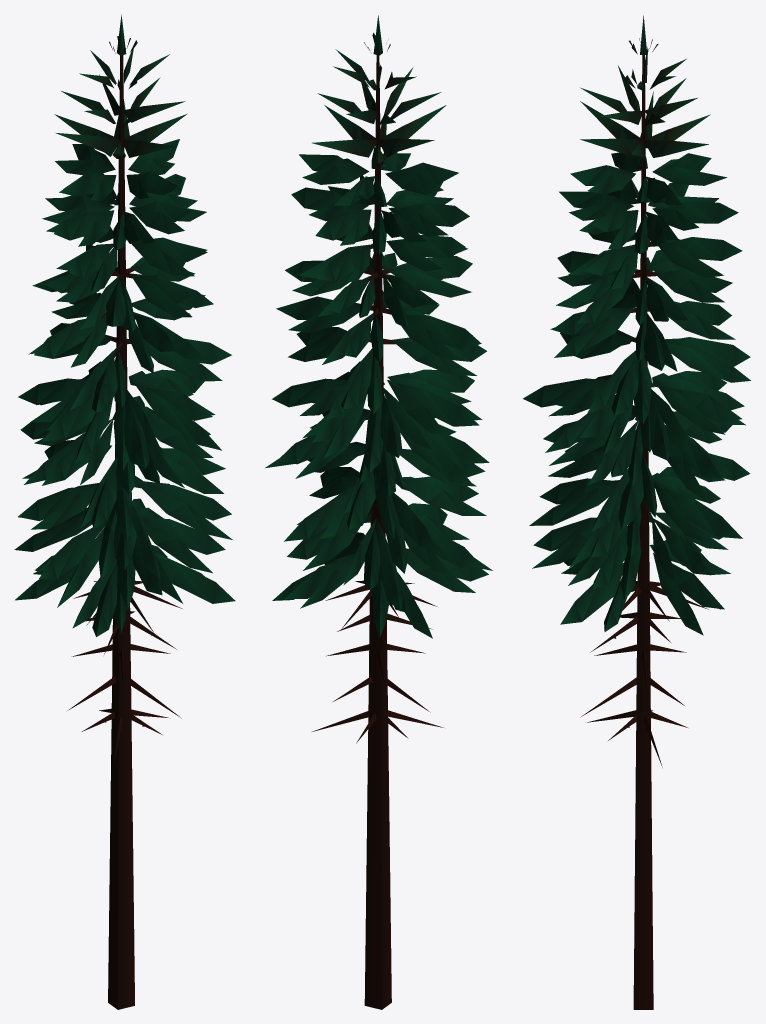
Rendered from fir-lod1.glb.
3 views of the same model, side by side, from view 1: azimuth 30°, elevation 25°; view 2: azimuth 150°, elevation 25°; view 3: azimuth 270°, elevation 25° (orthographic).
Parts seen in each view (by area): view 1: tree; view 2: tree; view 3: tree.
Boxes of the visible parts, x1,y1,x2,y2 form: tree: [14, 14, 235, 1009]; tree: [265, 15, 492, 1009]; tree: [523, 15, 750, 1009].
Bounding box in the file's own units: 4.5 × 22 × 4.6.
